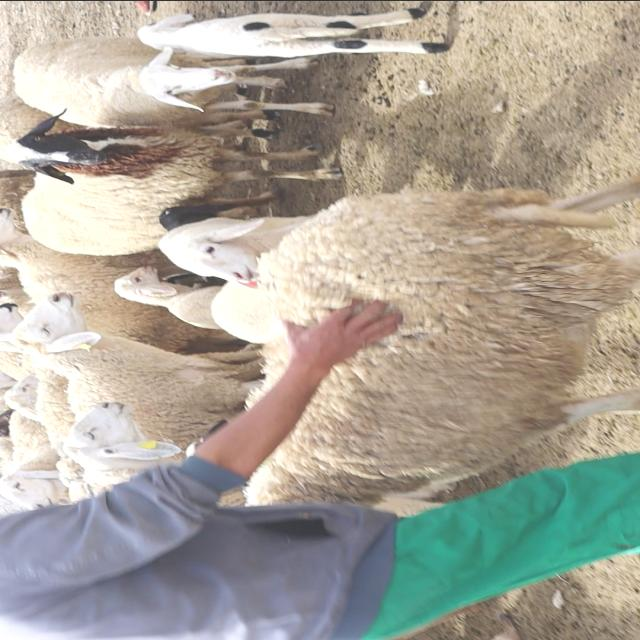Score_2: (245, 174, 639, 504)
